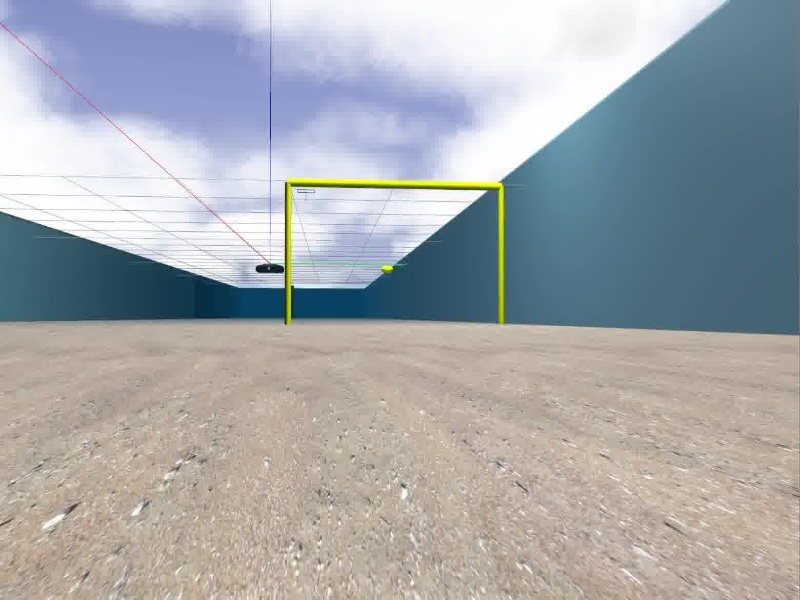gate: (282, 176, 504, 326)
